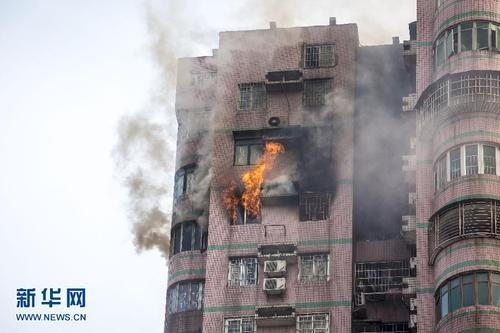fire: (218, 138, 283, 220)
